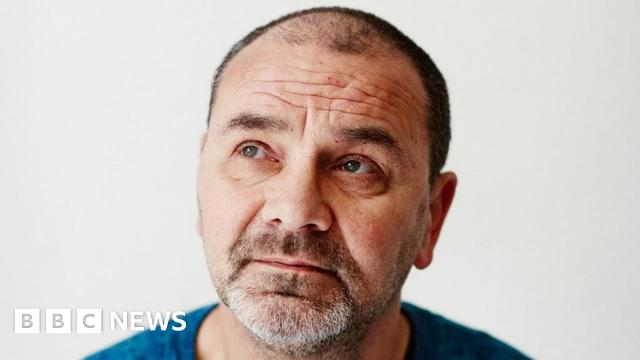forehead: (258, 84, 302, 110), (338, 68, 367, 98), (343, 96, 375, 122), (306, 78, 332, 109), (368, 86, 394, 110)
frown_line: (298, 110, 312, 138)
gummy_smile: (238, 197, 260, 238), (331, 209, 352, 250)
